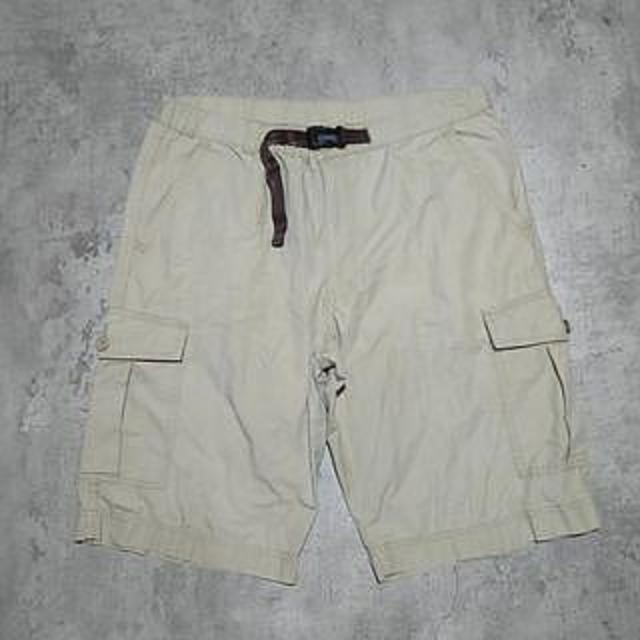SHORT: (50, 86, 627, 593)
